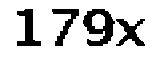1: (13, 5, 43, 52)
7: (51, 3, 79, 53)
9: (81, 6, 114, 51)
x: (116, 17, 148, 51)
